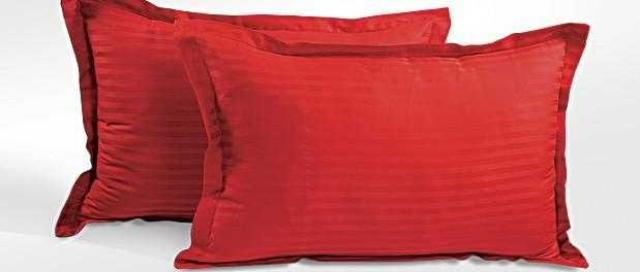pillow: (170, 16, 590, 270), (54, 0, 452, 238)
